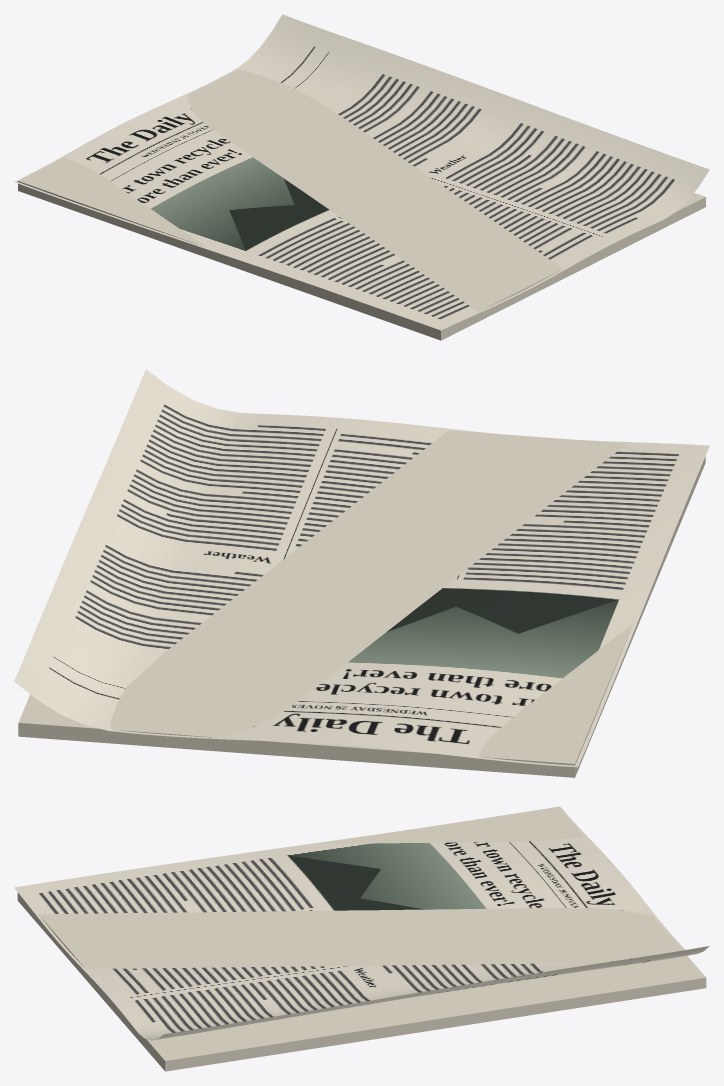
The model's file is newspaper.glb.
The picture shows the model from 3 angles, top to bottom: view 1: azimuth 30°, elevation 25°; view 2: azimuth 150°, elevation 25°; view 3: azimuth 270°, elevation 25°; orthographic projection. The views are drawn at different scales.
Parts seen in each view (by area): view 1: newspaper-page, newspaper-stack; view 2: newspaper-page, newspaper-stack; view 3: newspaper-stack, newspaper-page.
Boxes of the visible parts, left/top/right/bottom form: newspaper-page: left=14, top=14, right=709, bottom=330; newspaper-stack: left=18, top=70, right=705, bottom=340; newspaper-page: left=14, top=369, right=709, bottom=767; newspaper-stack: left=18, top=430, right=705, bottom=777; newspaper-stack: left=17, top=807, right=706, bottom=1071; newspaper-page: left=14, top=806, right=709, bottom=1040.
Size of the model in its own units: 0.2095 by 0.0163 by 0.2393.
2 materials, 1 textured.
